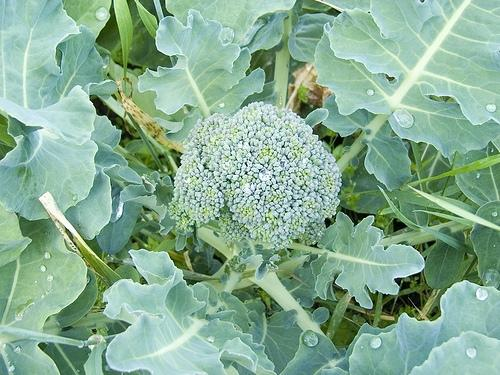broccoli: (166, 101, 342, 251)
